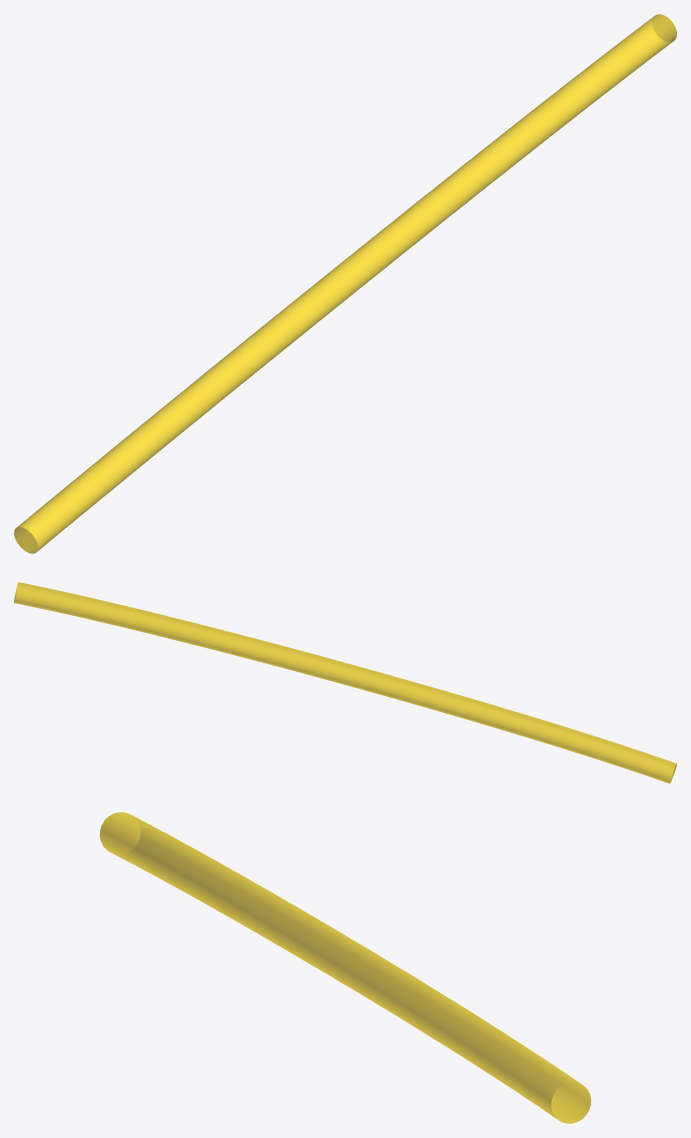
Rendered from Event_75125125_track_30.fbx.
3 renders of one model, top to bottom at view 1: azimuth 30°, elevation 25°; view 2: azimuth 150°, elevation 25°; view 3: azimuth 270°, elevation 25°, orthographic. The views are drawn at different scales.
Visible parts, largest first — view 1: Model; view 2: Model; view 3: Model.
Boxes of the visible parts, x1,y1,x2,y2 form: Model: (14,14,676,553); Model: (14,582,676,783); Model: (99,812,591,1123).
Bounding box in the file's own units: 1.18 × 0.3074 × 0.4568.
